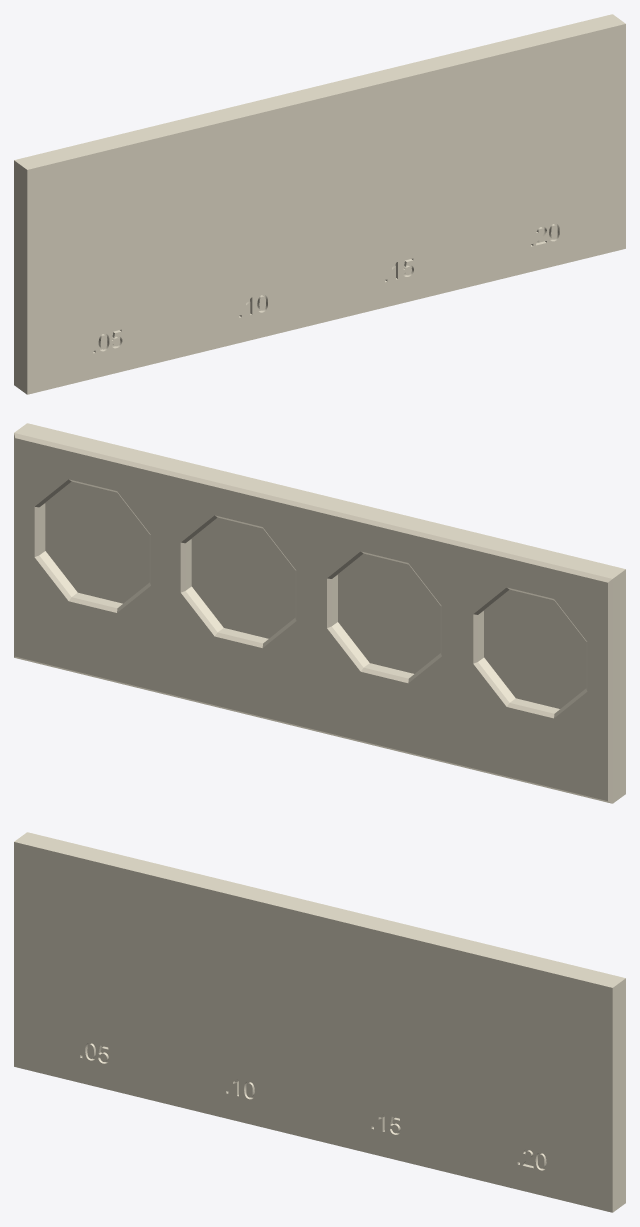
The model's file is coupon-recess-plate@ivory.glb.
The picture shows the model from 3 angles, top to bottom: view 1: azimuth 30°, elevation 25°; view 2: azimuth 150°, elevation 25°; view 3: azimuth 330°, elevation 25°; orthographic projection.
Visible parts, largest first — view 1: geometry_0; view 2: geometry_0; view 3: geometry_0.
Part boxes in pixels (box(x1,y1,x2,y2)): geometry_0: box(14, 14, 625, 394); geometry_0: box(14, 423, 625, 803); geometry_0: box(14, 832, 625, 1212).
Bounding box in the file's own units: 78 × 28 × 3.4.
